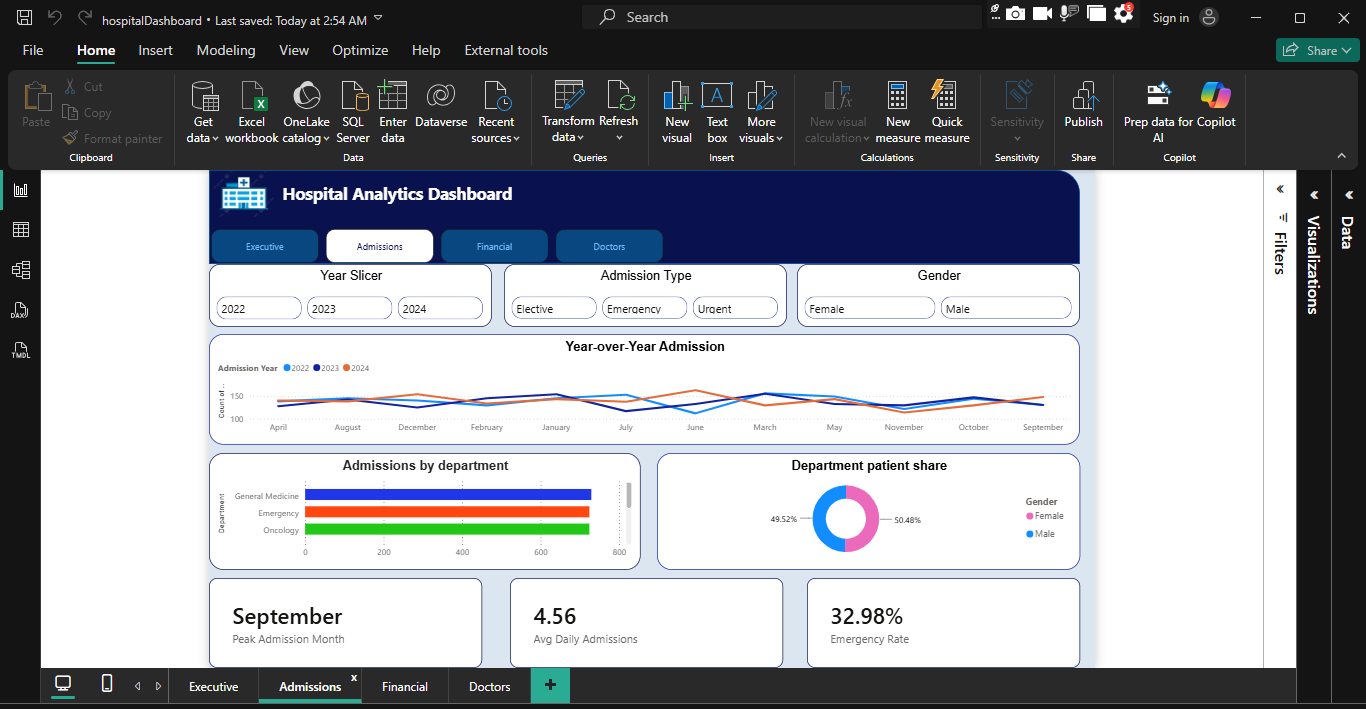

Layout of this report page (visuals, bound fields, positions):
{"tool":"powerbi","page":{"name":"Admissions","canvas":[1280,720],"ordinal":1},"visuals":[{"type":"shape","box":[0,0,1259.3,135.9],"z":0},{"type":"image","box":[0,0,101.4,67.6],"z":1000},{"type":"pageNavigator","box":[2.9,85.2,656.8,50],"z":2000},{"type":"textbox","box":[101.2,13,373,43.4],"z":3000},{"type":"advancedSlicerVisual","title":"Year Slicer","fields":{"Values":["hospital_cleaned.Admission Year"]},"box":[0,135.9,409.2,91.1],"z":4000},{"type":"advancedSlicerVisual","title":"Admission Type","fields":{"Values":["hospital_cleaned.Admission Type"]},"box":[425.8,135.9,409,90.7],"z":5000},{"type":"advancedSlicerVisual","title":"Gender","fields":{"Values":["hospital_cleaned.Gender"]},"box":[850.1,135.9,409,90.7],"z":6000},{"type":"lineChart","title":"Monthly admissions trend","fields":{"Y":["CountNonNull(hospital_cleaned.PatientID)"],"Series":["hospital_cleaned.Admission Year"],"Category":["hospital_cleaned.Admission Month Name"]},"box":[0,237.1,1259.3,160.5],"z":7000},{"type":"clusteredBarChart","title":"Admissions by department ","fields":{"Category":["hospital_cleaned.Department"],"Y":["CountNonNull(hospital_cleaned.PatientID)"]},"box":[0,409.3,624,169.1],"z":8000},{"type":"donutChart","title":"Department patient share","fields":{"Y":["hospital_cleaned.Total Patients"],"Category":["hospital_cleaned.Gender"]},"box":[647,409.2,612.2,169.1],"z":9000},{"type":"cardVisual","title":"Peak Admission Month","fields":{"Data":["hospital_cleaned.Peak Admission Month"]},"box":[0,589.9,394.7,130.1],"z":10000},{"type":"cardVisual","title":"Peak Admission Month","fields":{"Data":["hospital_cleaned.Avg Daily Admissions"]},"box":[435.1,589.9,395,130.1],"z":11000},{"type":"cardVisual","title":"Peak Admission Month","fields":{"Data":["hospital_cleaned.Emergency Rate"]},"box":[864.3,589.9,395,130.1],"z":12000}]}

Visuals, with their boxes on the page's 1280x720 design canvas (x1, y1, x2, y2). These are canvas units, not pixel positions in the 1366x709 screenshot, which may show the page scaled, cropped or inside an application window:
shape: pyautogui.locateOnScreen(0, 0, 1259, 136)
image: pyautogui.locateOnScreen(0, 0, 101, 68)
pageNavigator: pyautogui.locateOnScreen(3, 85, 660, 135)
textbox: pyautogui.locateOnScreen(101, 13, 474, 56)
"Year Slicer" advancedSlicerVisual: pyautogui.locateOnScreen(0, 136, 409, 227)
"Admission Type" advancedSlicerVisual: pyautogui.locateOnScreen(426, 136, 835, 227)
"Gender" advancedSlicerVisual: pyautogui.locateOnScreen(850, 136, 1259, 227)
"Monthly admissions trend" lineChart: pyautogui.locateOnScreen(0, 237, 1259, 398)
"Admissions by department " clusteredBarChart: pyautogui.locateOnScreen(0, 409, 624, 578)
"Department patient share" donutChart: pyautogui.locateOnScreen(647, 409, 1259, 578)
"Peak Admission Month" cardVisual: pyautogui.locateOnScreen(0, 590, 395, 720)
"Peak Admission Month" cardVisual: pyautogui.locateOnScreen(435, 590, 830, 720)
"Peak Admission Month" cardVisual: pyautogui.locateOnScreen(864, 590, 1259, 720)
